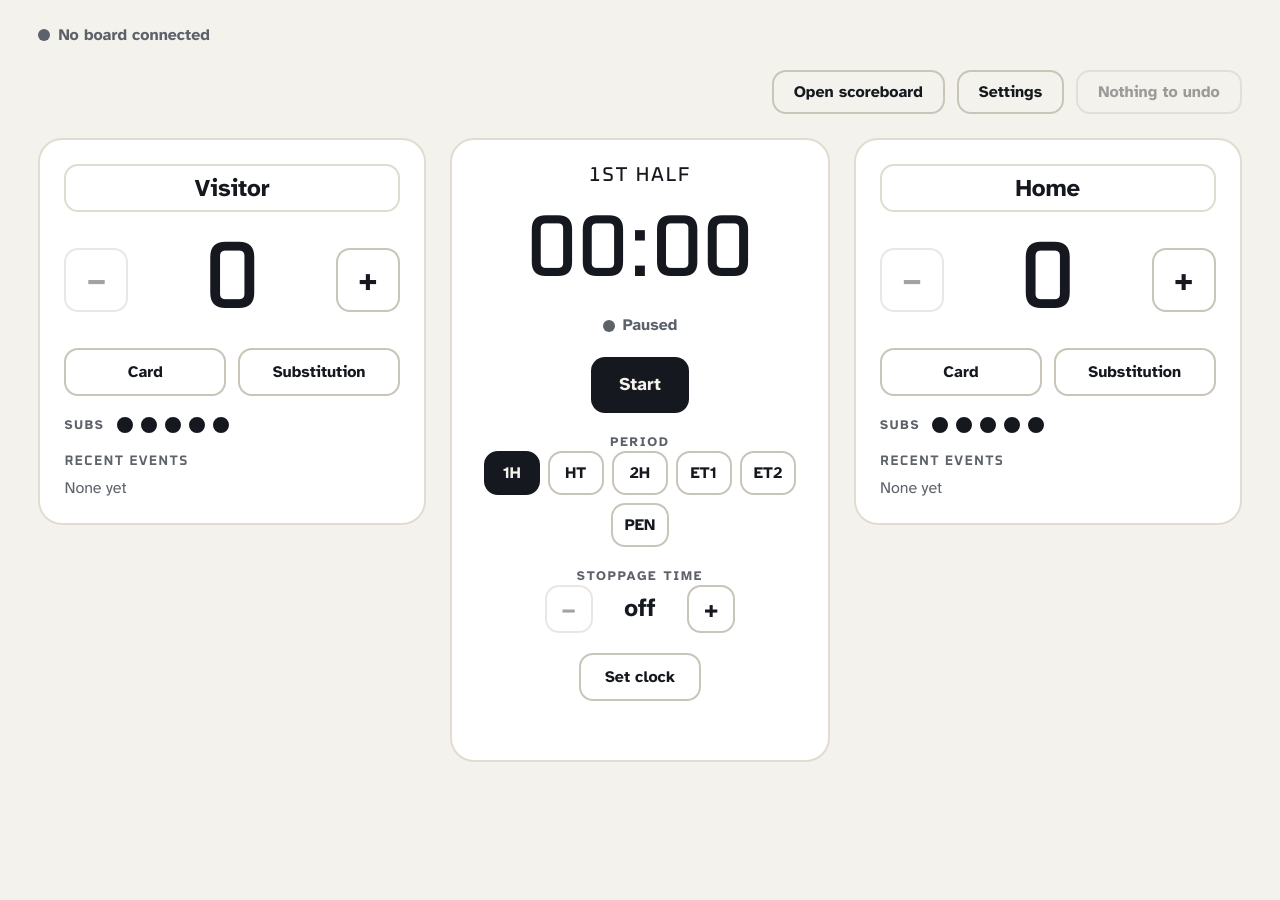
Scenario: FootballConsole › goal sheet › Done announces the goal with scorer and assist
Click the 1st button "+". click: [368, 280]
box: [336,248,400,312]
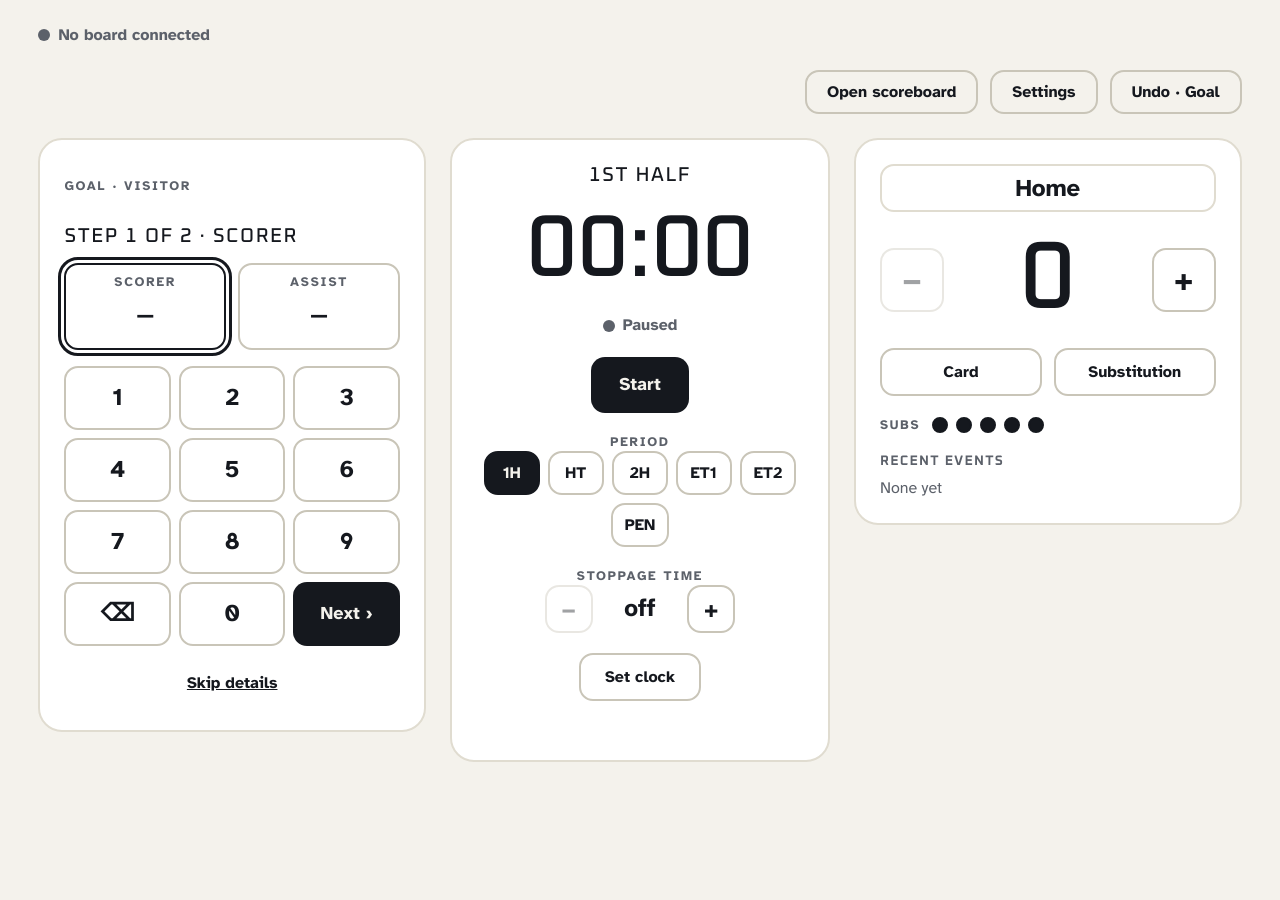
Click the button "9". click: [347, 542]
box: [294,510,400,574]
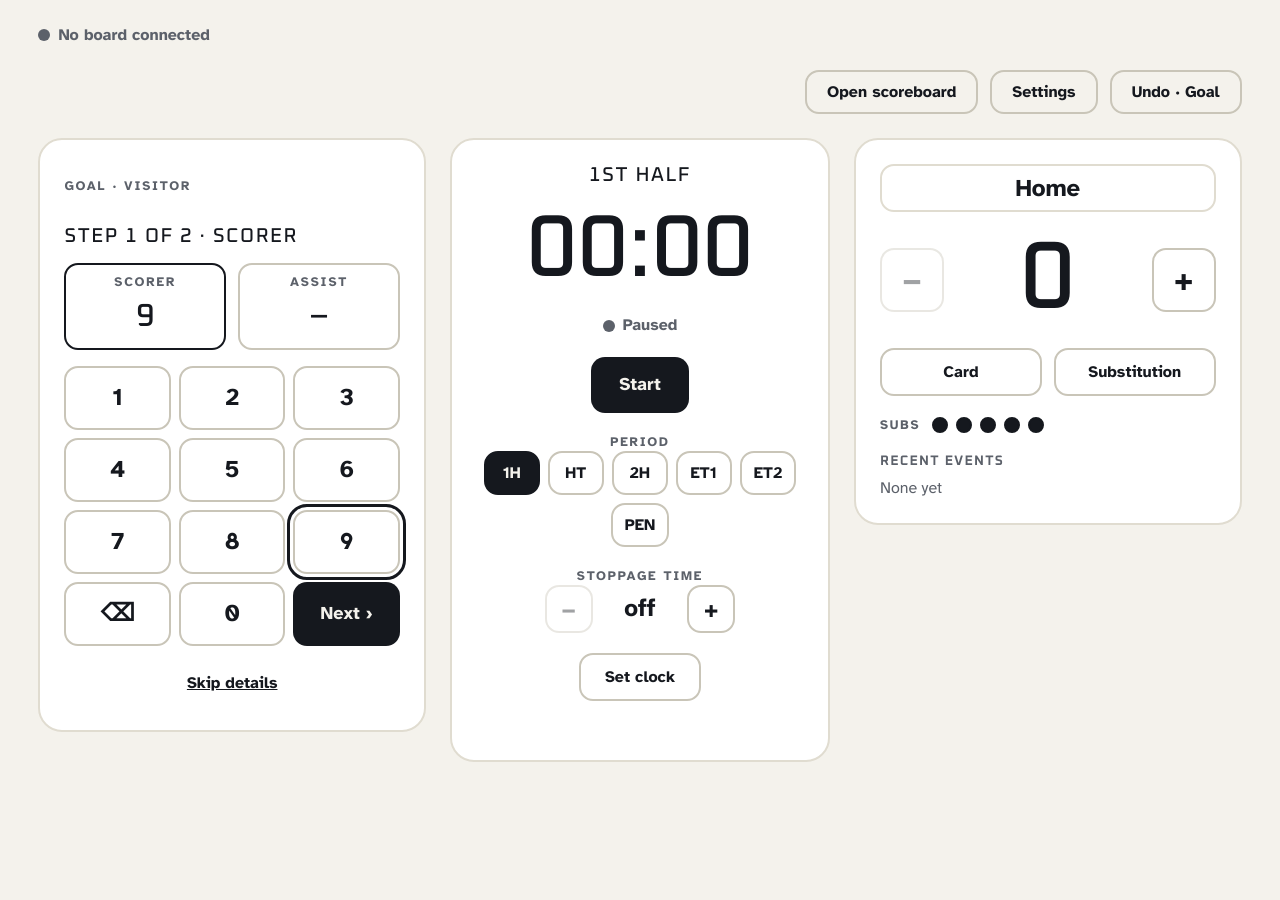
Click the button "Next ›". click: [347, 614]
box: [294,582,400,646]
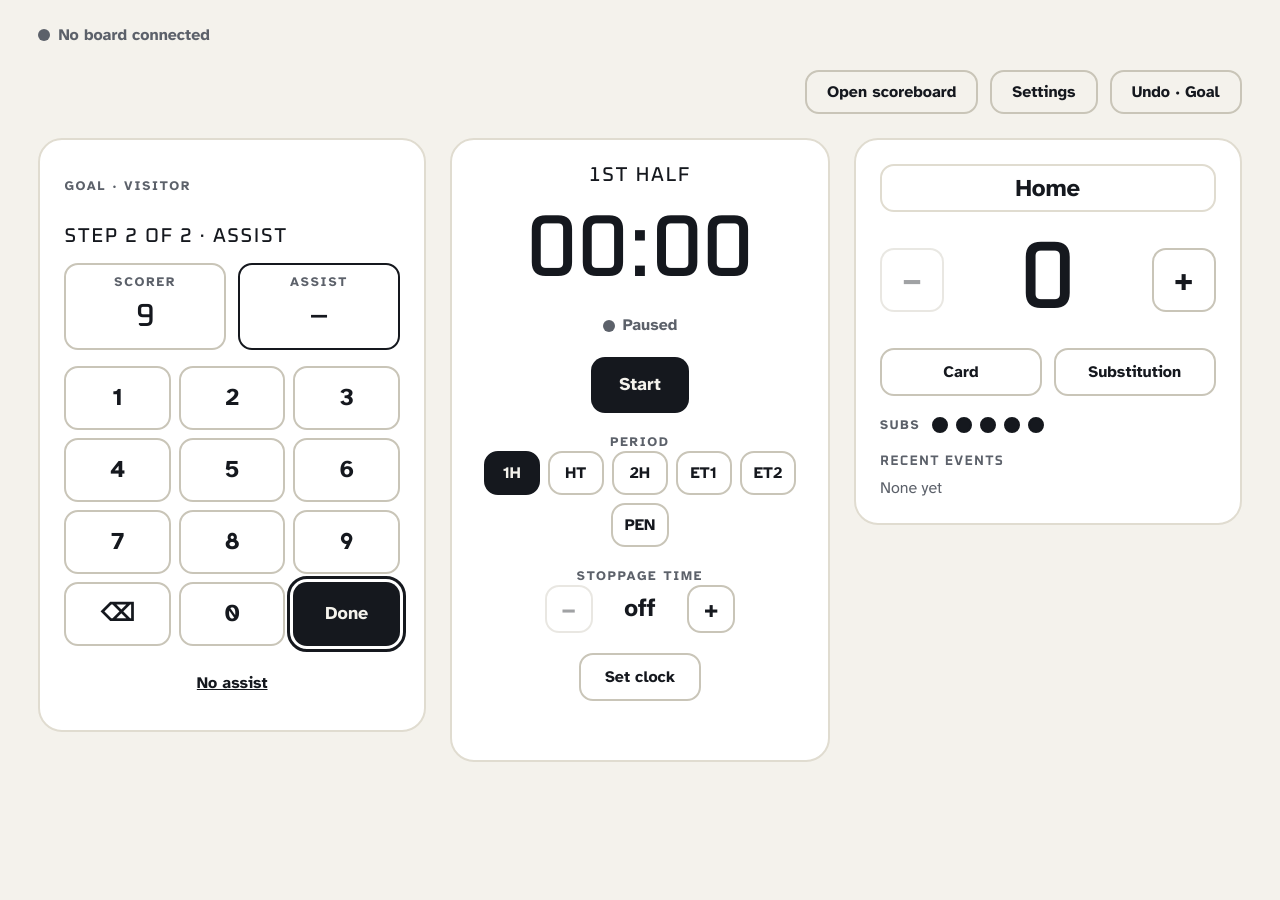
Click the button "1". click: [118, 398]
box: [64,366,171,430]
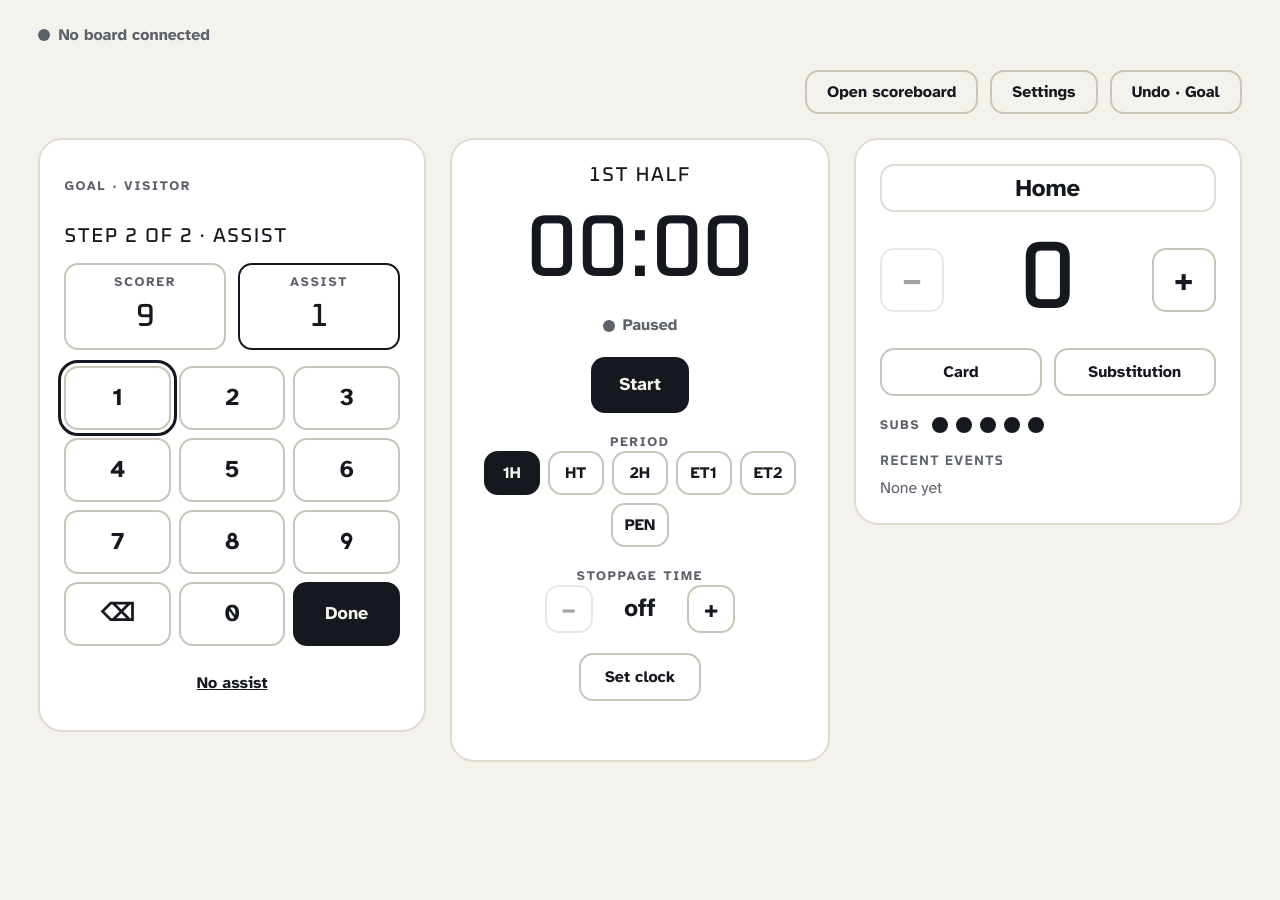
Click the button "0". click: [232, 614]
box: [179,582,285,646]
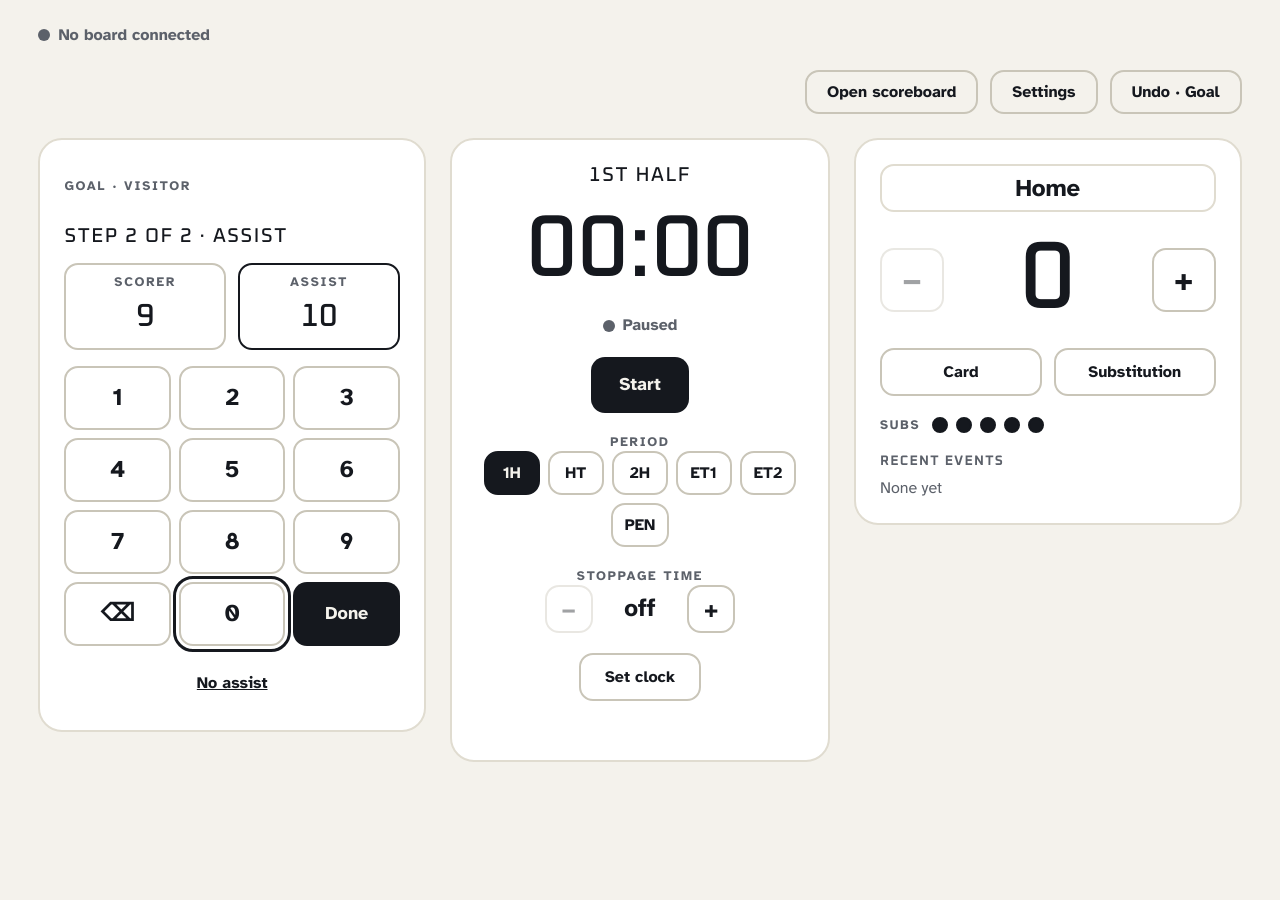
Click the button "Done". click: [347, 614]
box: [294,582,400,646]
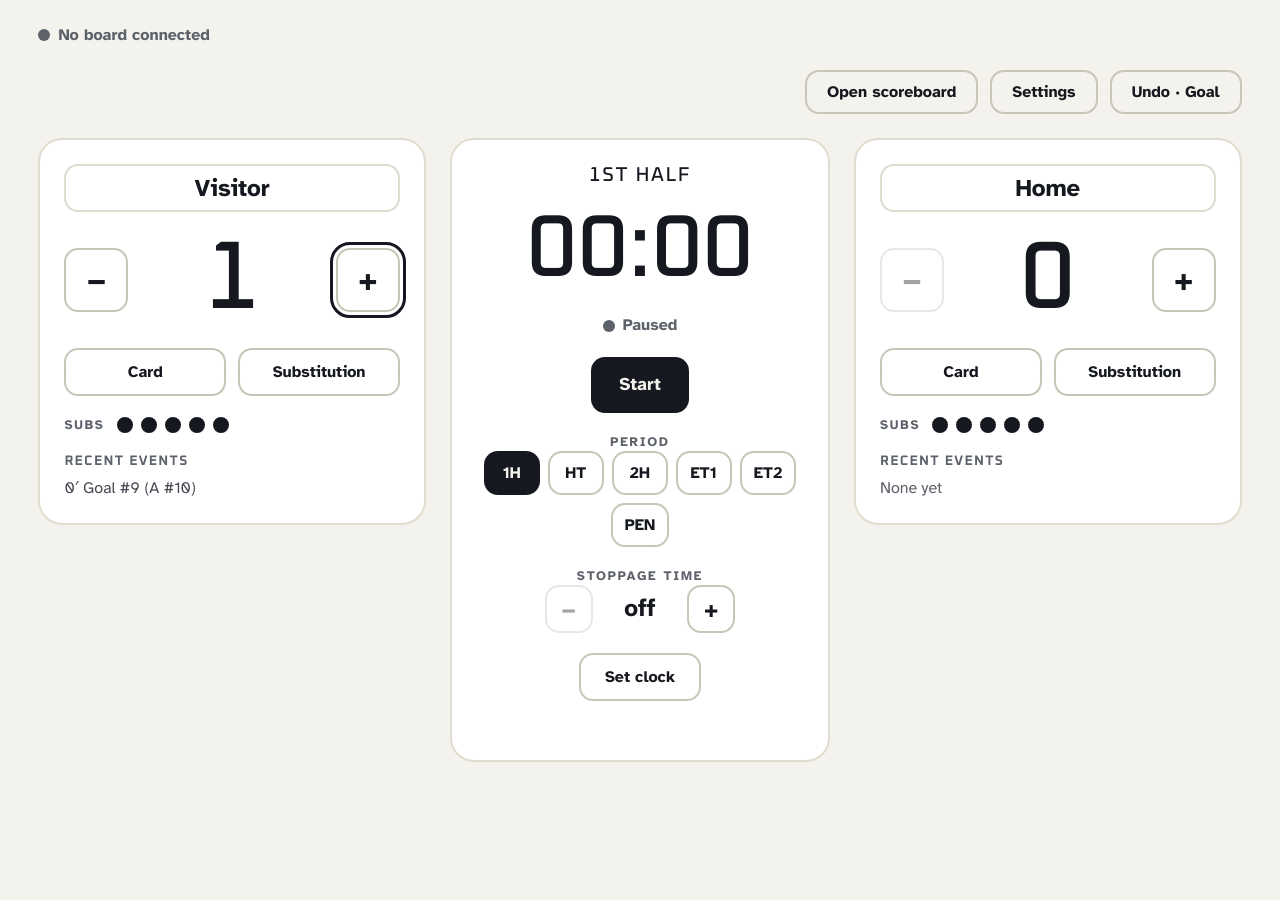
Now the dialog is gone
